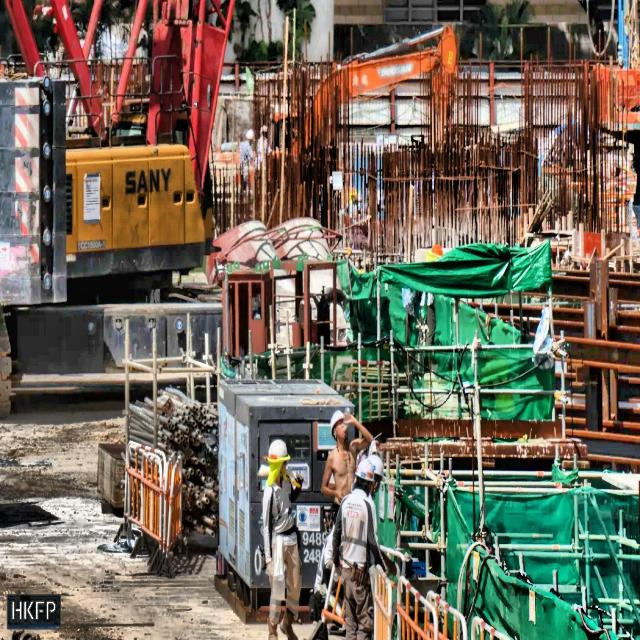safety_helmet: (260, 437, 292, 489), (327, 407, 350, 444)
safety_jacket: (333, 488, 378, 574), (264, 473, 300, 540)
